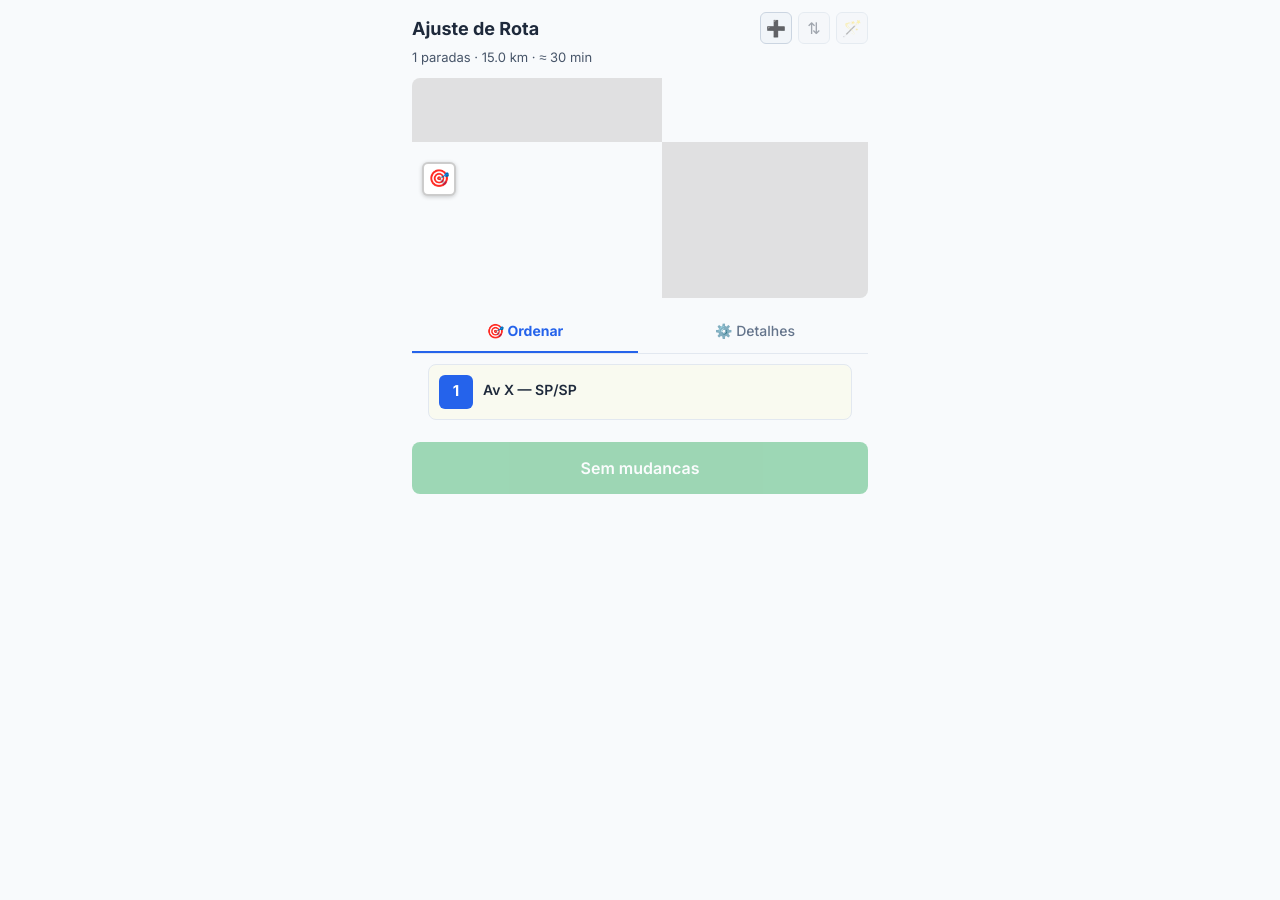
Scenario: AjusteRotaPage — edicao via modal › clicar tijolinho na aba Detalhes abre modal
Check: the heading "Ajuste de Rota" is shown, box [412,14,539,42]
Click the tab "⚙️ Detalhes": (755,331) [642,310,868,352]
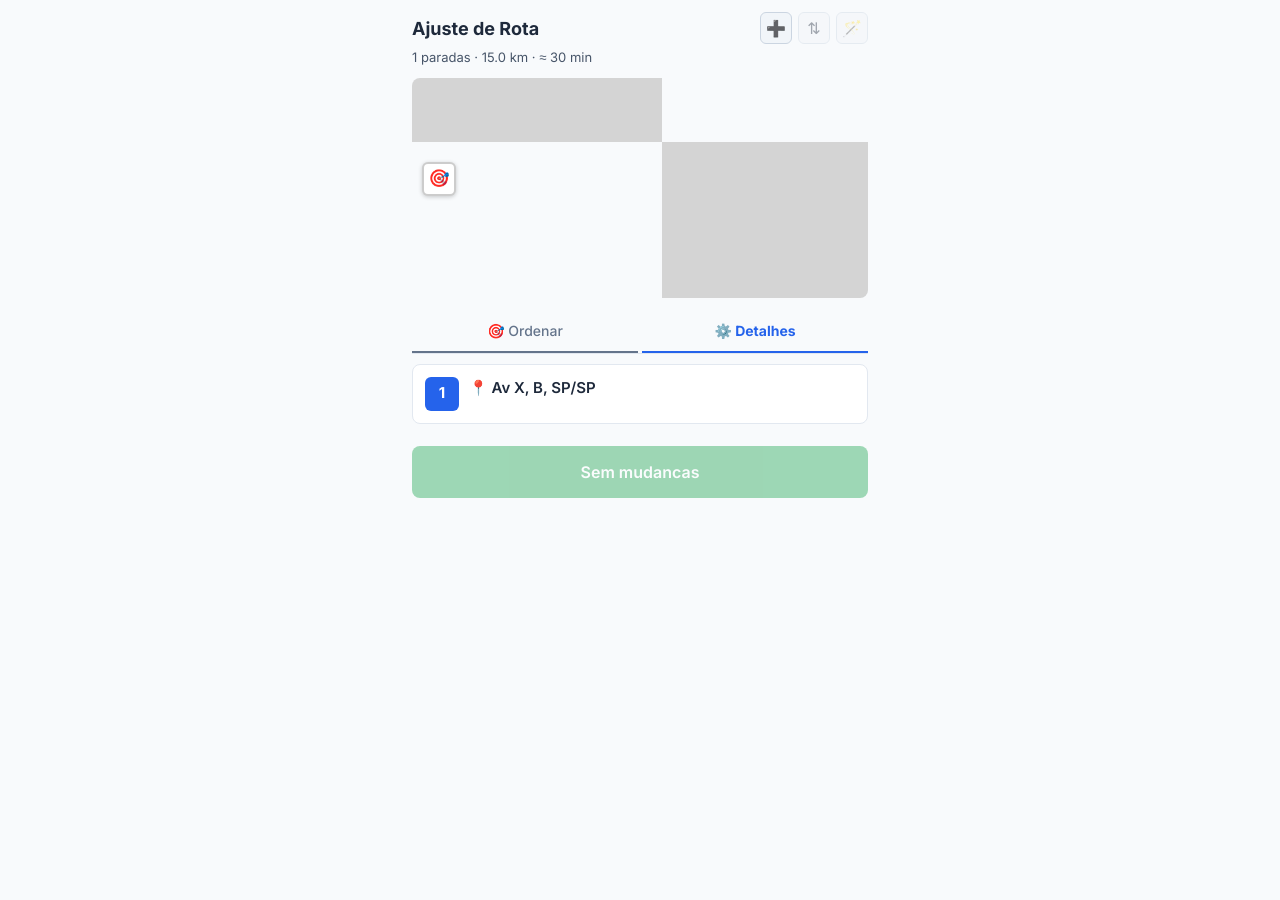
Click the button with test id "tijolinho-detalhes-1": (442,394) [412,364,868,424]
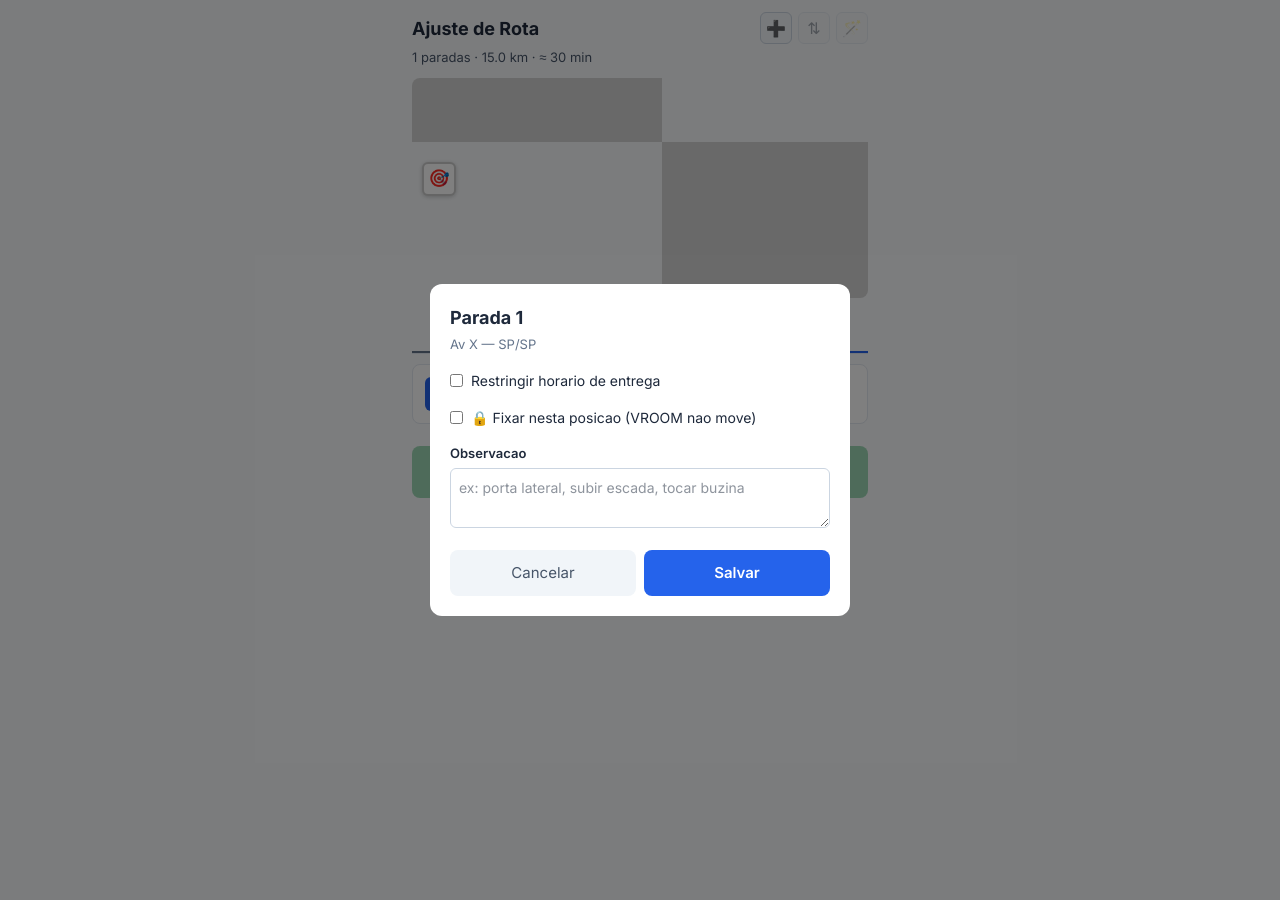
Check: the dialog is shown
